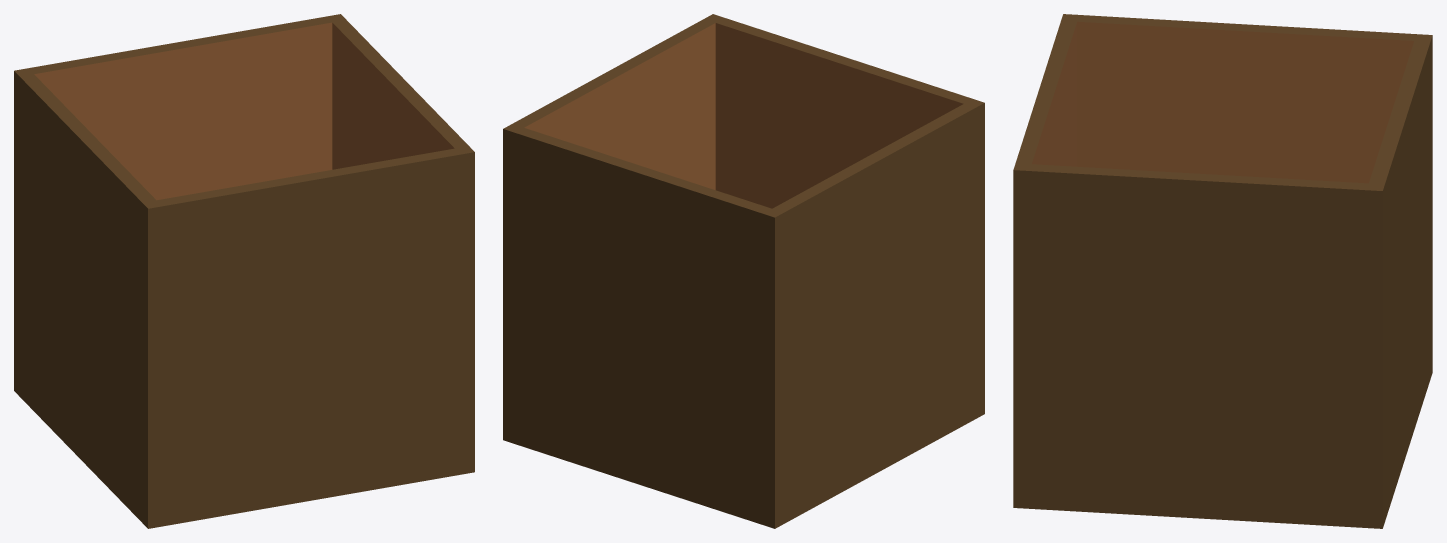
The model's file is Box_Large.fbx.
3 views of the same model, side by side, from view 1: azimuth 30°, elevation 25°; view 2: azimuth 150°, elevation 25°; view 3: azimuth 270°, elevation 25° (orthographic). The views are drawn at different scales.
Parts seen in each view (by area): view 1: Box.002; view 2: Box.002; view 3: Box.002.
Boxes of the visible parts, box(x1,y1,x2,y2) form: Box.002: box(14, 14, 474, 528); Box.002: box(503, 14, 984, 528); Box.002: box(1013, 14, 1432, 528).
Bounding box in the file's own units: 59.41 × 52.82 × 59.41.
